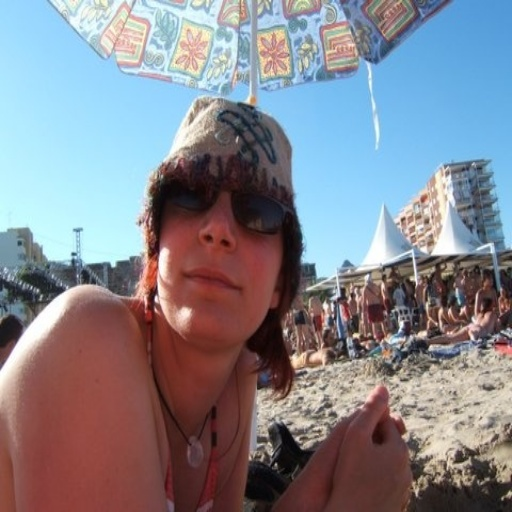hand: (280, 405, 405, 509)
